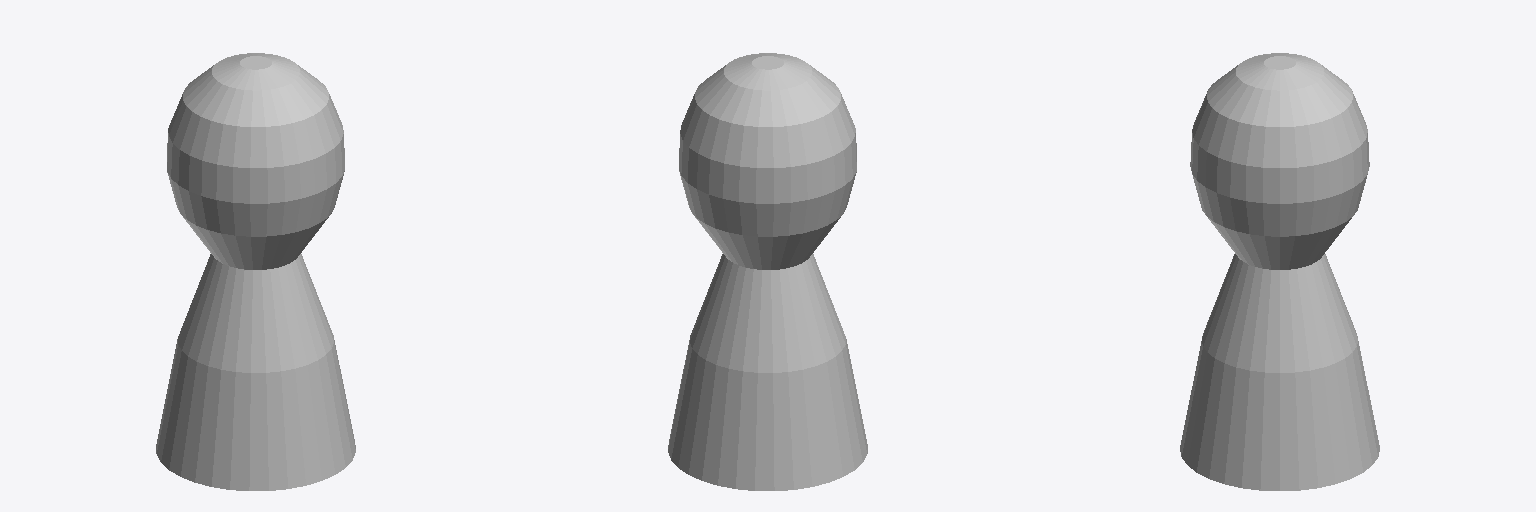
The model's file is old_pawn.obj.
3 renders of one model, left to right at view 1: azimuth 30°, elevation 25°; view 2: azimuth 150°, elevation 25°; view 3: azimuth 270°, elevation 25°, orthographic.
Visible parts, largest first — view 1: Circle; view 2: Circle; view 3: Circle.
Part boxes in pixels (x1,y1,x2,y2): Circle: (156,53,355,490); Circle: (668,53,867,490); Circle: (1180,53,1379,490).
Size of the model in its own units: 1.4 by 2.98 by 1.4.